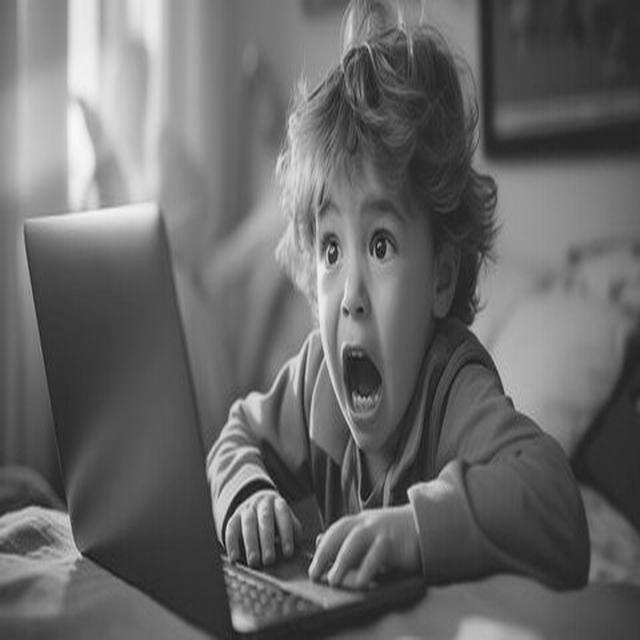Fear: (316, 138, 435, 451)
